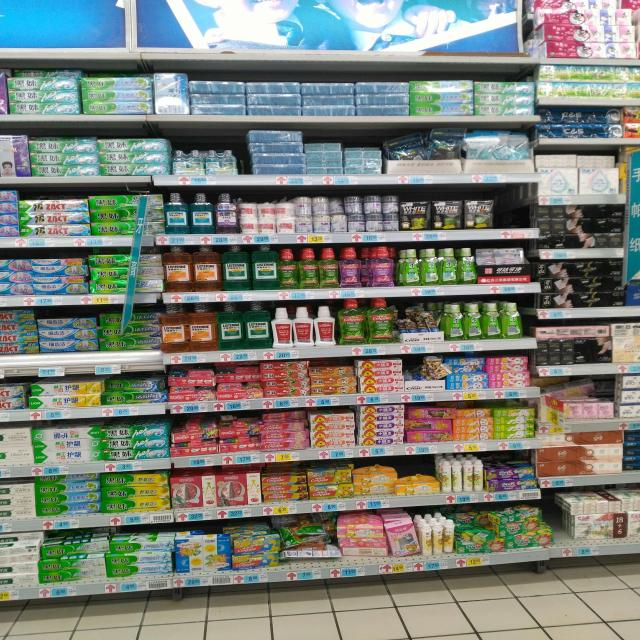empty_space: (498, 188, 528, 226)
